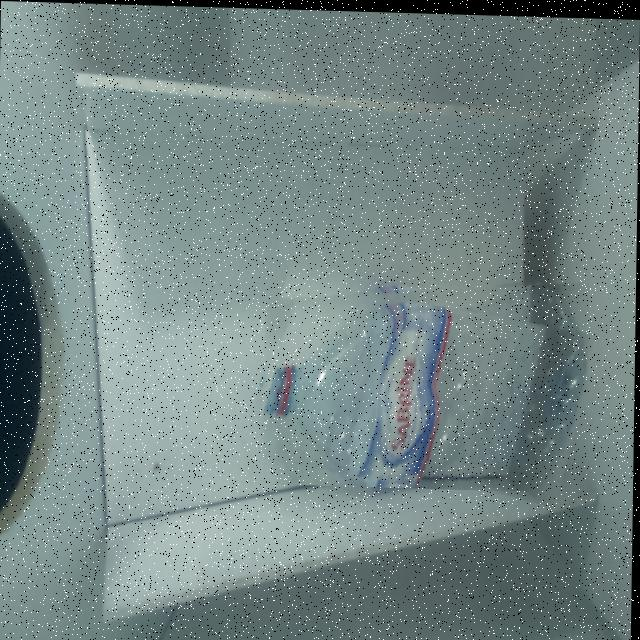plasticbottle: (256, 269, 588, 488)
